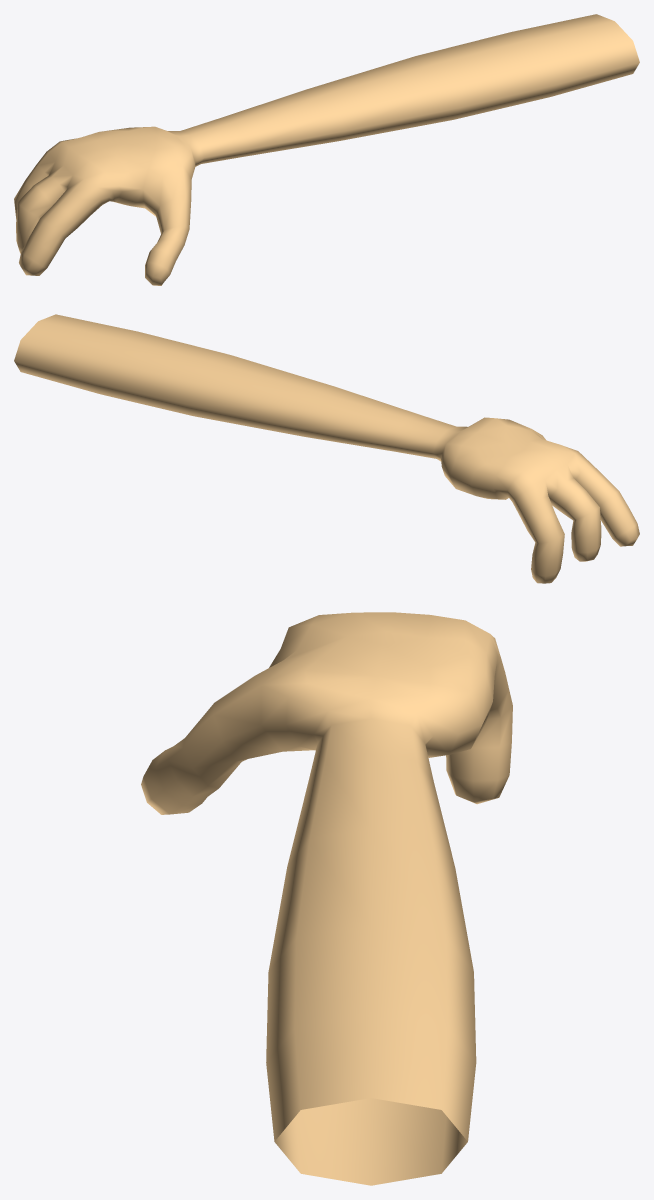
The model's file is mano.obj.
3 renders of one model, top to bottom at view 1: azimuth 30°, elevation 25°; view 2: azimuth 150°, elevation 25°; view 3: azimuth 270°, elevation 25°, orthographic. The views are drawn at different scales.
Parts seen in each view (by area): view 1: Cube; view 2: Cube; view 3: Cube.
Boxes of the visible parts, x1,y1,x2,y2 form: Cube: (14,14,639,285); Cube: (14,314,639,583); Cube: (141,612,512,1185).
Bounding box in the file's own units: 9.24 × 1.73 × 2.54.
